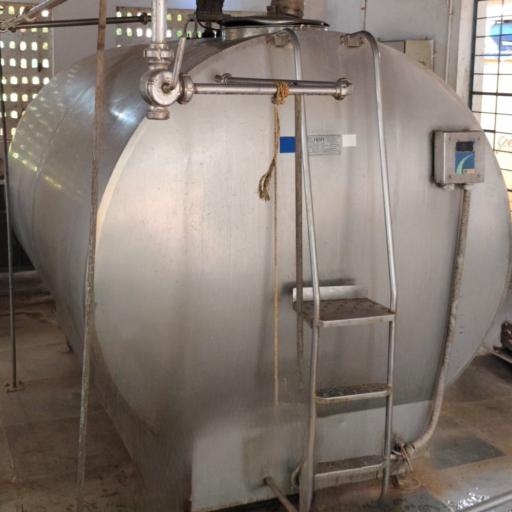silo: (3, 8, 511, 511)
